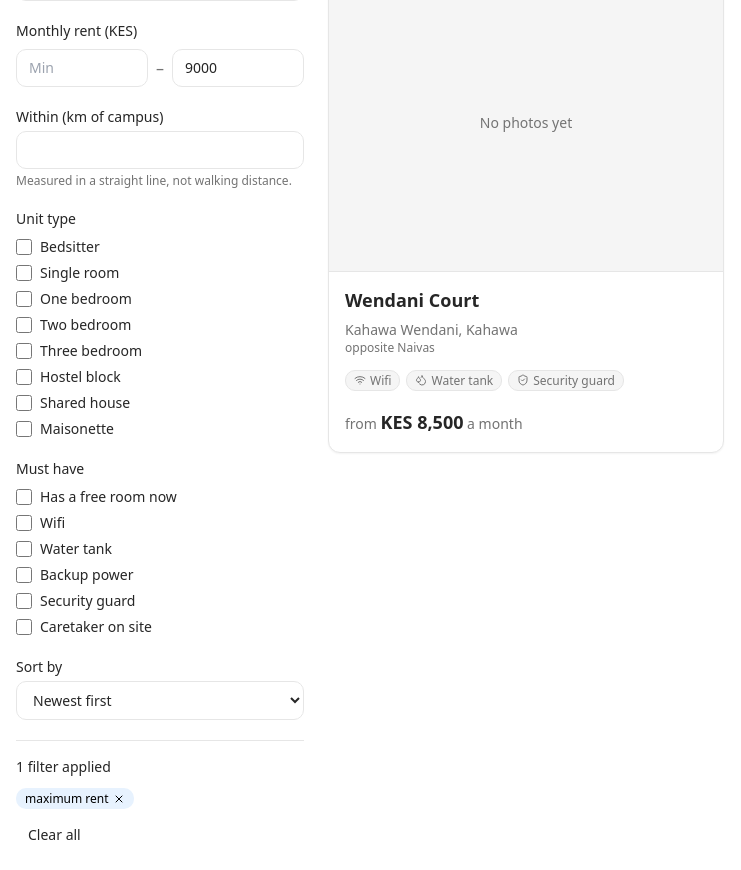
it: filters and the URL › clears a filter when its chip is pressed
(page scrolled)
Check: the link "Wendani Court" is shown, box [345,288,479,312]
Step 1. Click the button "maximum rent" → (75, 797), box [16,785,134,809]
(page scrolled)
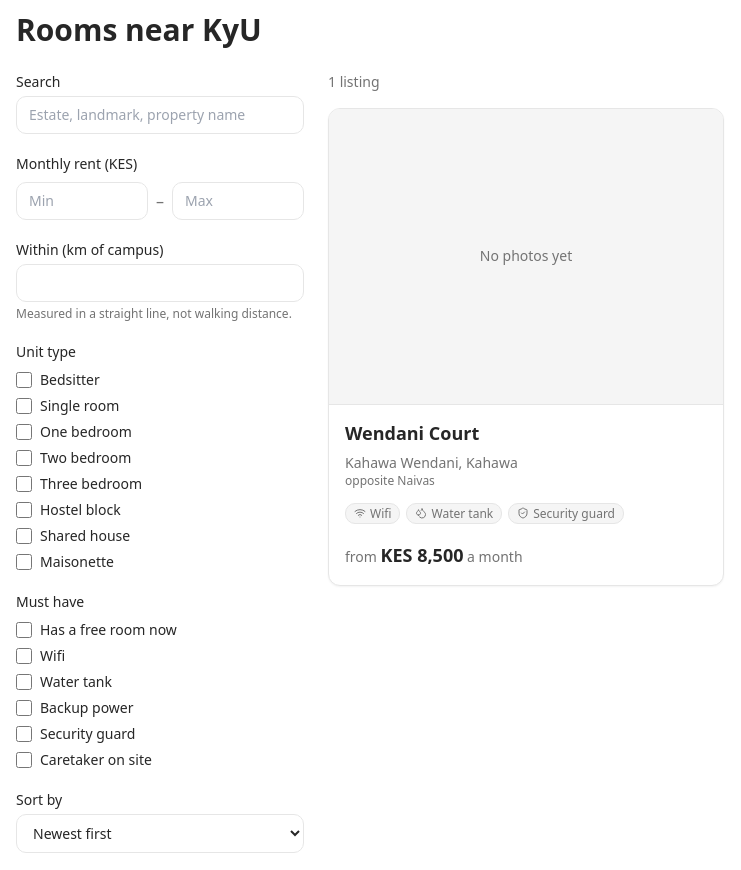
Check: the number field named "Maximum rent" is not empty, box [172,182,304,220]
